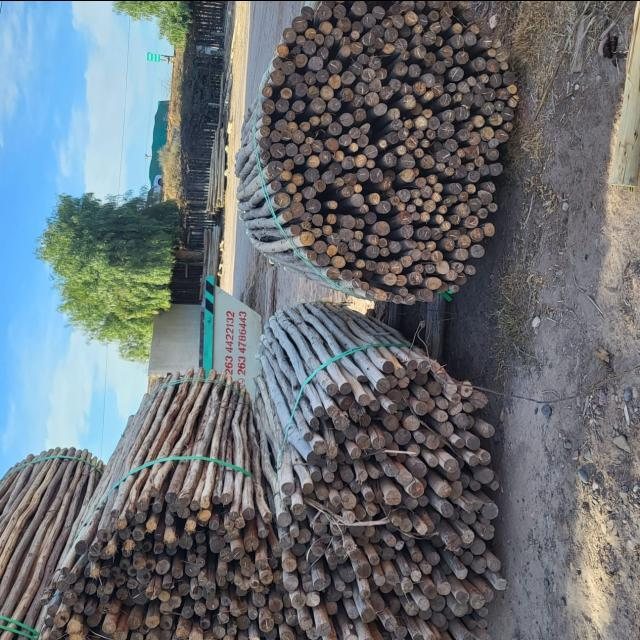package: (261, 0, 518, 303), (277, 356, 501, 640), (37, 491, 277, 640)
